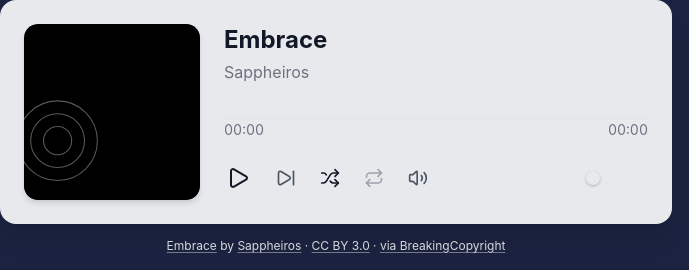
it: Player › toggles play and pause
Click the button named "Play". click: (238, 178)
box: x1=216 y1=156 x2=260 y2=200
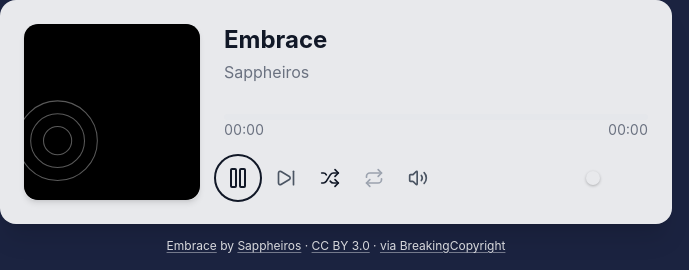
Result: the button named "Pause" is shown
Click the button named "Pause". click: (238, 178)
box: x1=216 y1=156 x2=260 y2=200
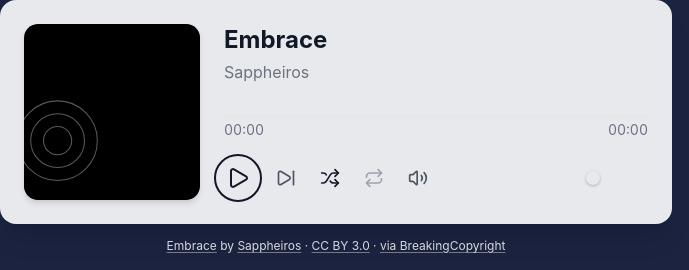
Result: the button named "Play" is shown at x1=216 y1=156 x2=260 y2=200
